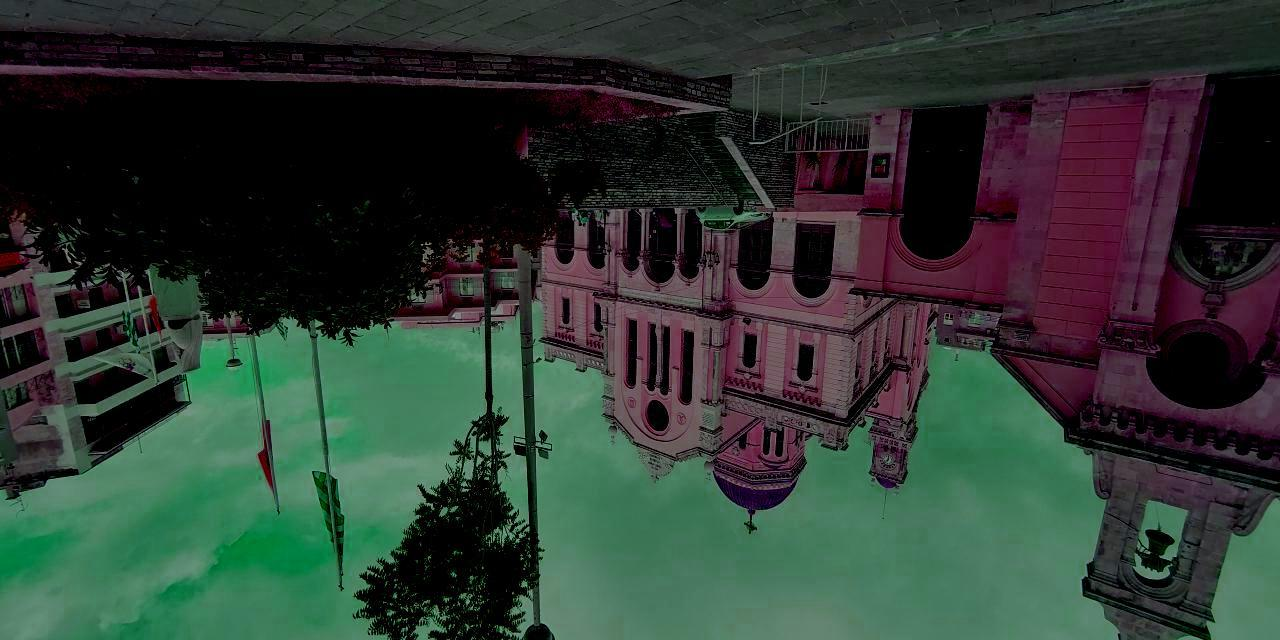Agios Minas: (542, 206, 940, 538)
